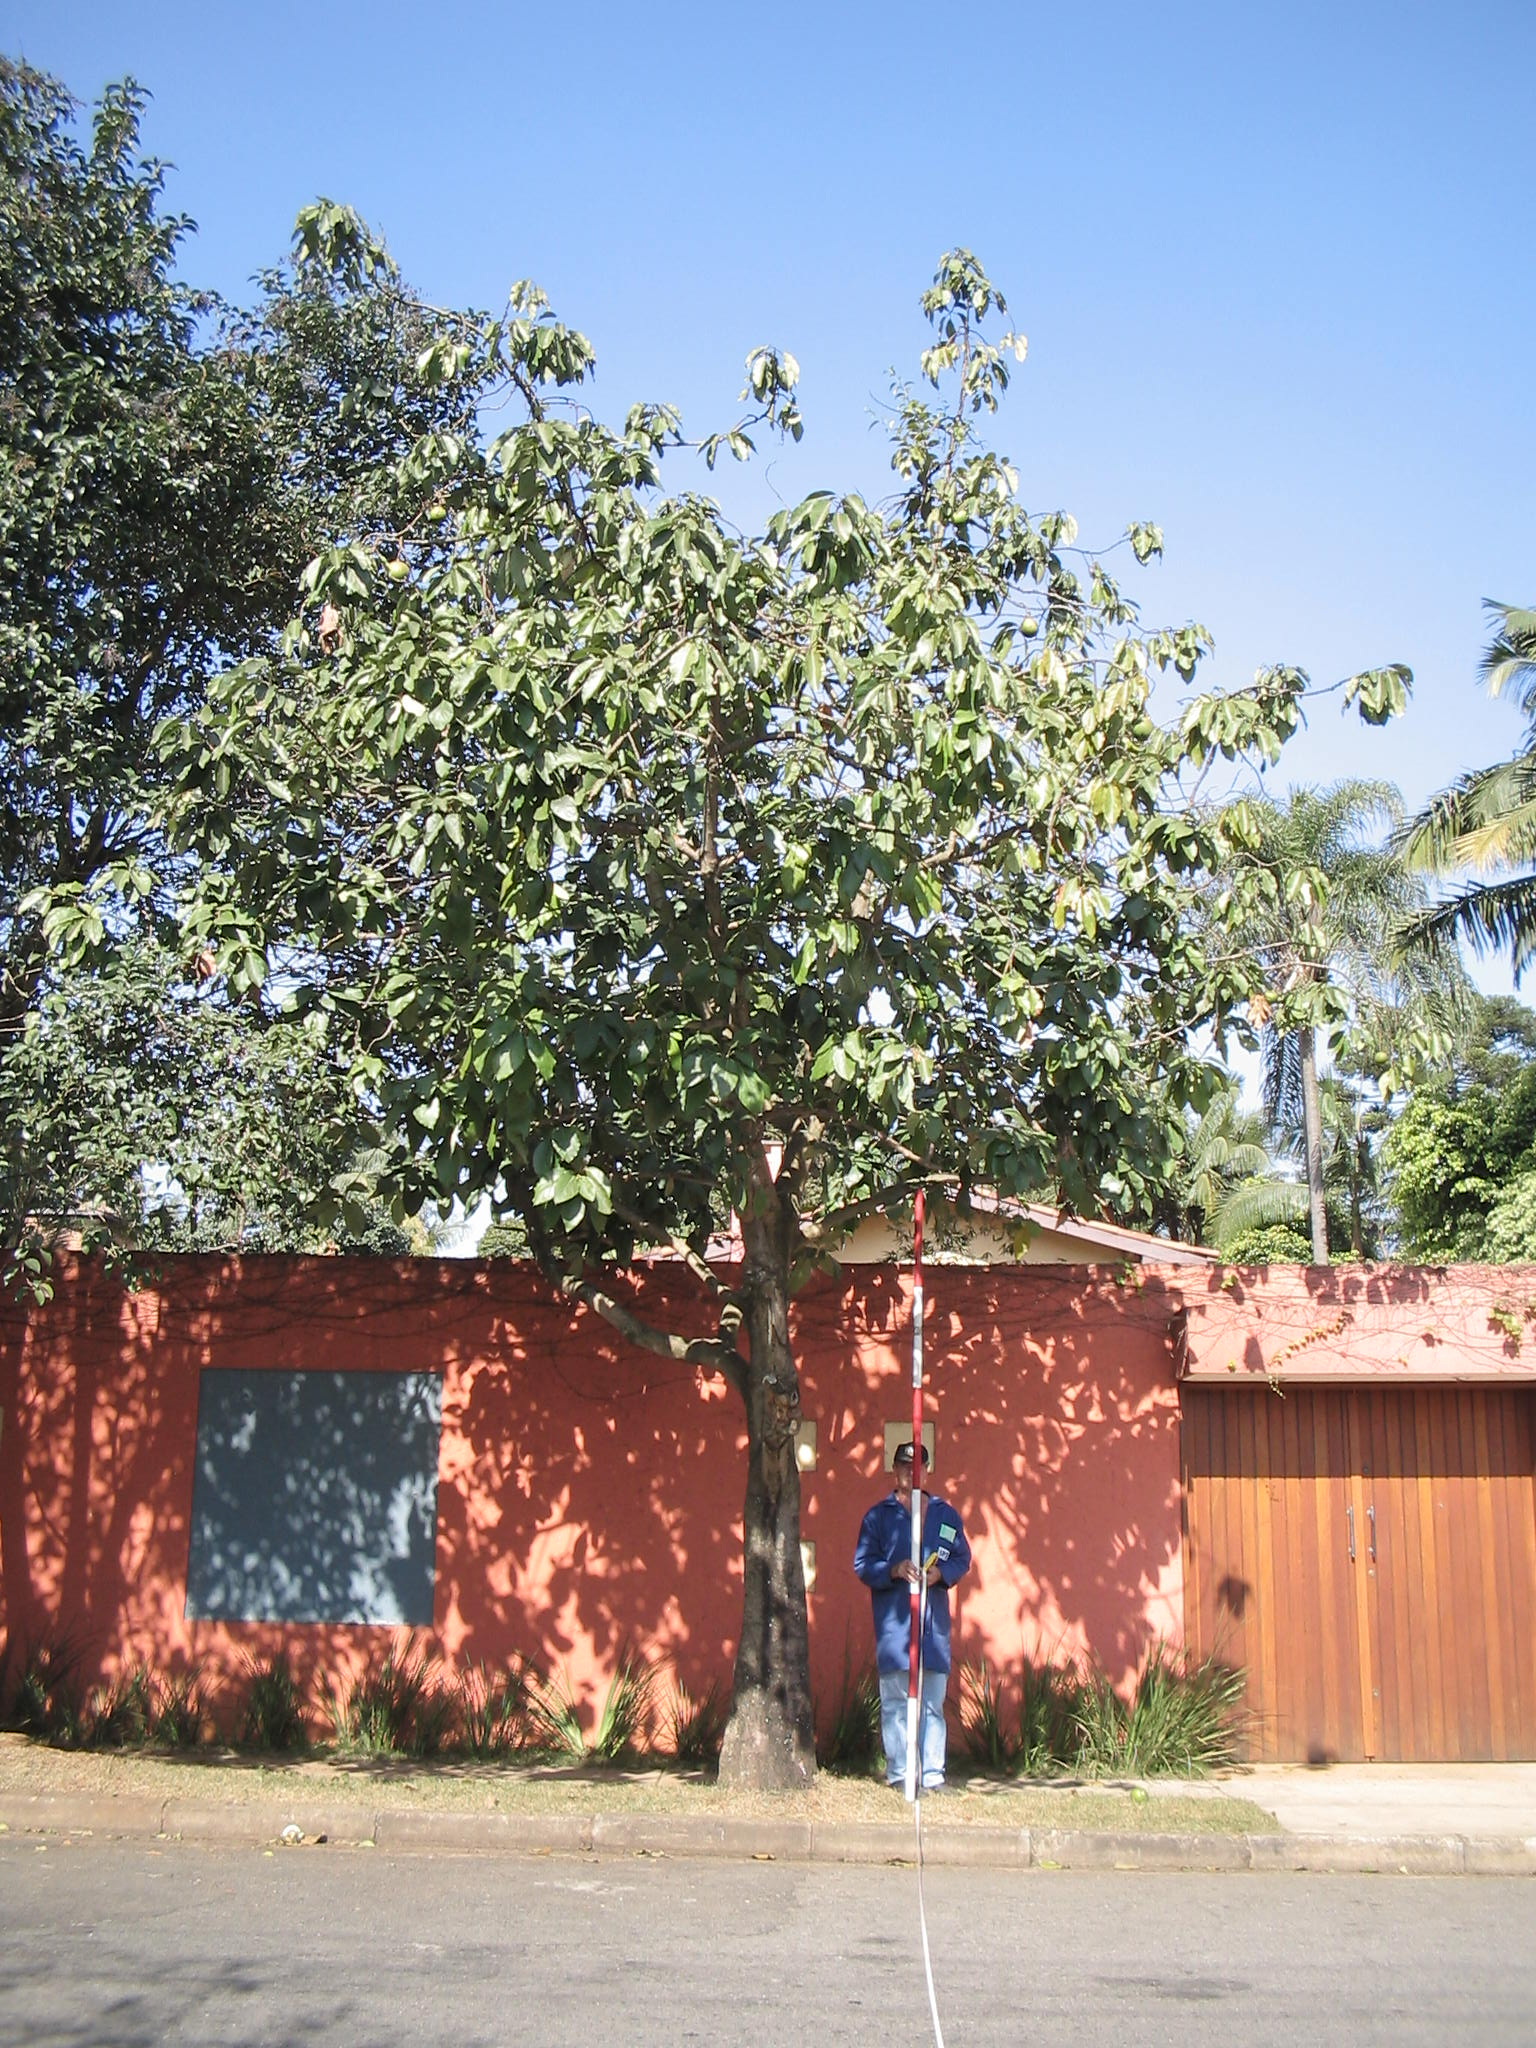crown: (47, 221, 1407, 1382)
stem: (682, 1367, 857, 1795)
stick: (876, 1187, 957, 1804)
tree: (39, 213, 1412, 1792)
